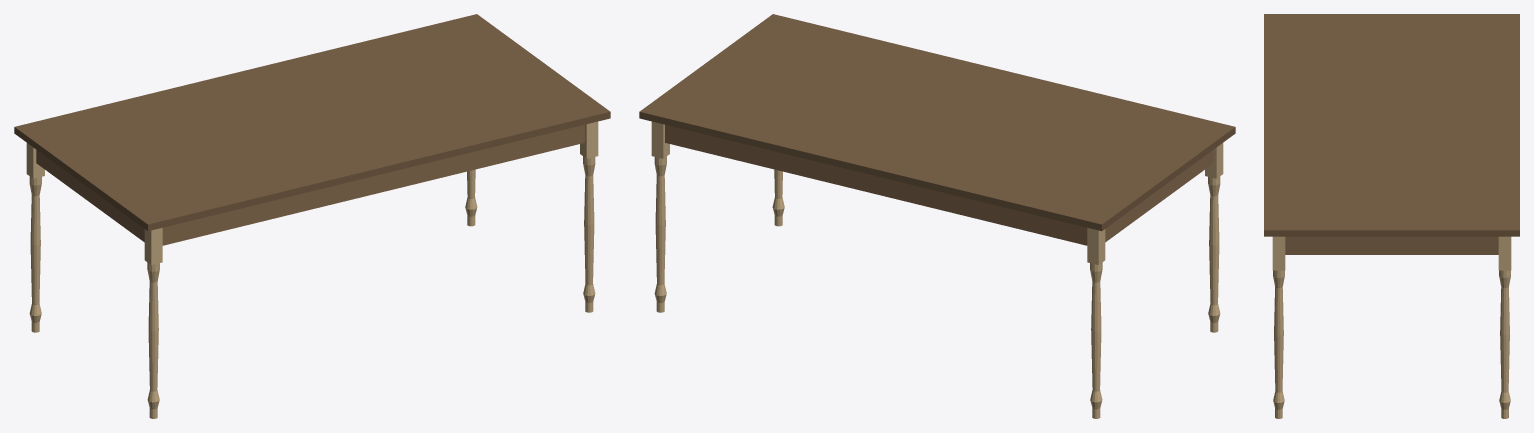
Rendered from BIB-DTB-6-seat.glb.
3 views of the same model, side by side, from view 1: azimuth 30°, elevation 25°; view 2: azimuth 150°, elevation 25°; view 3: azimuth 270°, elevation 25° (orthographic). The views are drawn at different scales.
Visible parts, largest first — view 1: top:pbr, apron-f:pbr, leg-fl:pbr, leg-fr:pbr, leg-bl:pbr, apron-l:pbr; view 2: top:pbr, apron-b:pbr, leg-bl:pbr, leg-br:pbr, leg-fl:pbr, apron-l:pbr; view 3: top:pbr, apron-r:pbr, leg-fr:pbr, leg-br:pbr.
Boxes of the visible parts, left/top/right/bottom form: top:pbr: left=14, top=14, right=610, bottom=231; apron-f:pbr: left=162, top=124, right=584, bottom=245; leg-fl:pbr: left=144, top=228, right=162, bottom=418; leg-fr:pbr: left=580, top=121, right=598, bottom=312; leg-bl:pbr: left=26, top=143, right=44, bottom=332; apron-l:pbr: left=36, top=150, right=144, bottom=242; top:pbr: left=639, top=14, right=1235, bottom=231; apron-b:pbr: left=665, top=124, right=1087, bottom=245; leg-bl:pbr: left=1087, top=228, right=1105, bottom=418; leg-br:pbr: left=651, top=121, right=669, bottom=312; leg-fl:pbr: left=1205, top=143, right=1223, bottom=332; apron-l:pbr: left=1105, top=150, right=1213, bottom=242; top:pbr: left=1264, top=14, right=1519, bottom=236; apron-r:pbr: left=1285, top=236, right=1498, bottom=254; leg-fr:pbr: left=1272, top=236, right=1285, bottom=418; leg-br:pbr: left=1498, top=236, right=1511, bottom=418.
Size of the model in its own units: 1.8 by 0.75 by 0.9.
